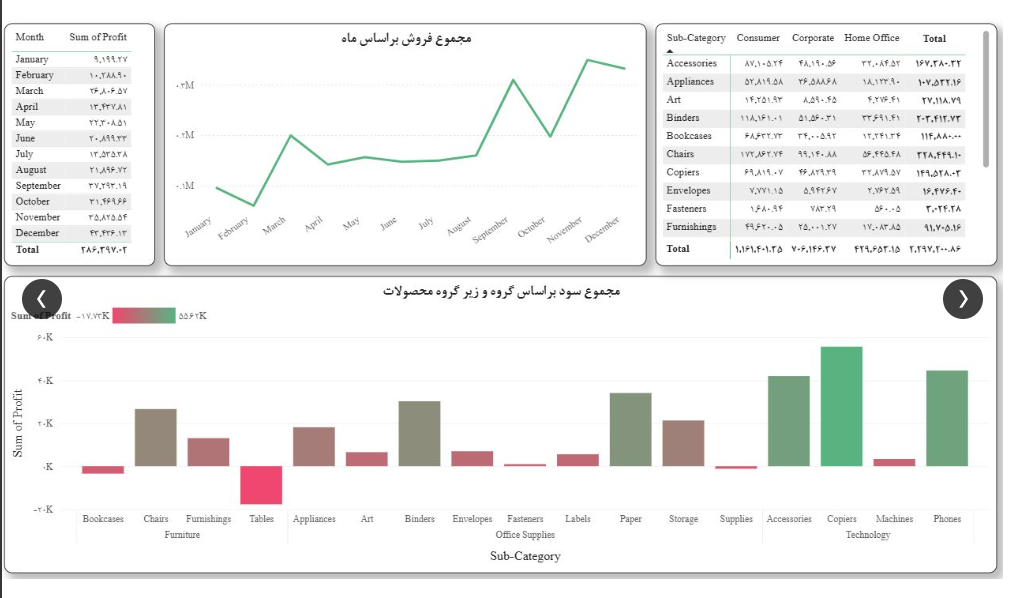

Layout of this report page (visuals, bound fields, positions):
{"tool":"powerbi","page":{"name":"Page 2","canvas":[1280,720],"ordinal":1},"visuals":[{"type":"tableEx","fields":{"Values":["Orders.Order Date.Variation.Date Hierarchy.Month","Sum(Orders.Profit)"]},"box":[8.6,8.6,185.7,308.6],"z":0},{"type":"lineChart","title":"مجموع فروش براساس ماه","fields":{"Category":["Orders.Order Date.Variation.Date Hierarchy.Month"],"Y":["Sum(Orders.Sales)"]},"box":[205,8.6,610,308.6],"z":1000},{"type":"columnChart","title":"مجموع سود براساس گروه و زیر گروه محصولات","fields":{"Category":["Orders.Category","Orders.Sub-Category"],"Y":["Sum(Orders.Profit)"]},"box":[8.6,330,1255.7,374.3],"z":2000},{"type":"pivotTable","fields":{"Rows":["Orders.Sub-Category"],"Columns":["Orders.Segment"],"Values":["Sum(Orders.Sales)"]},"box":[825.7,8.6,438.6,308.6],"z":3000}]}

Visuals, with their boxes on the page's 1280x720 design canvas (x1, y1, x2, y2). These are canvas units, not pixel positions in the 1009x598 screenshot, which may show the page scaled, cropped or inside an application window:
tableEx - Orders.Order Date.Variation.Date Hierarchy.Month x Sum(Orders.Profit): pyautogui.locateOnScreen(9, 9, 194, 317)
"مجموع فروش براساس ماه" lineChart: pyautogui.locateOnScreen(205, 9, 815, 317)
"مجموع سود براساس گروه و زیر گروه محصولات" columnChart: pyautogui.locateOnScreen(9, 330, 1264, 704)
pivotTable - Orders.Sub-Category x Orders.Segment: pyautogui.locateOnScreen(826, 9, 1264, 317)
